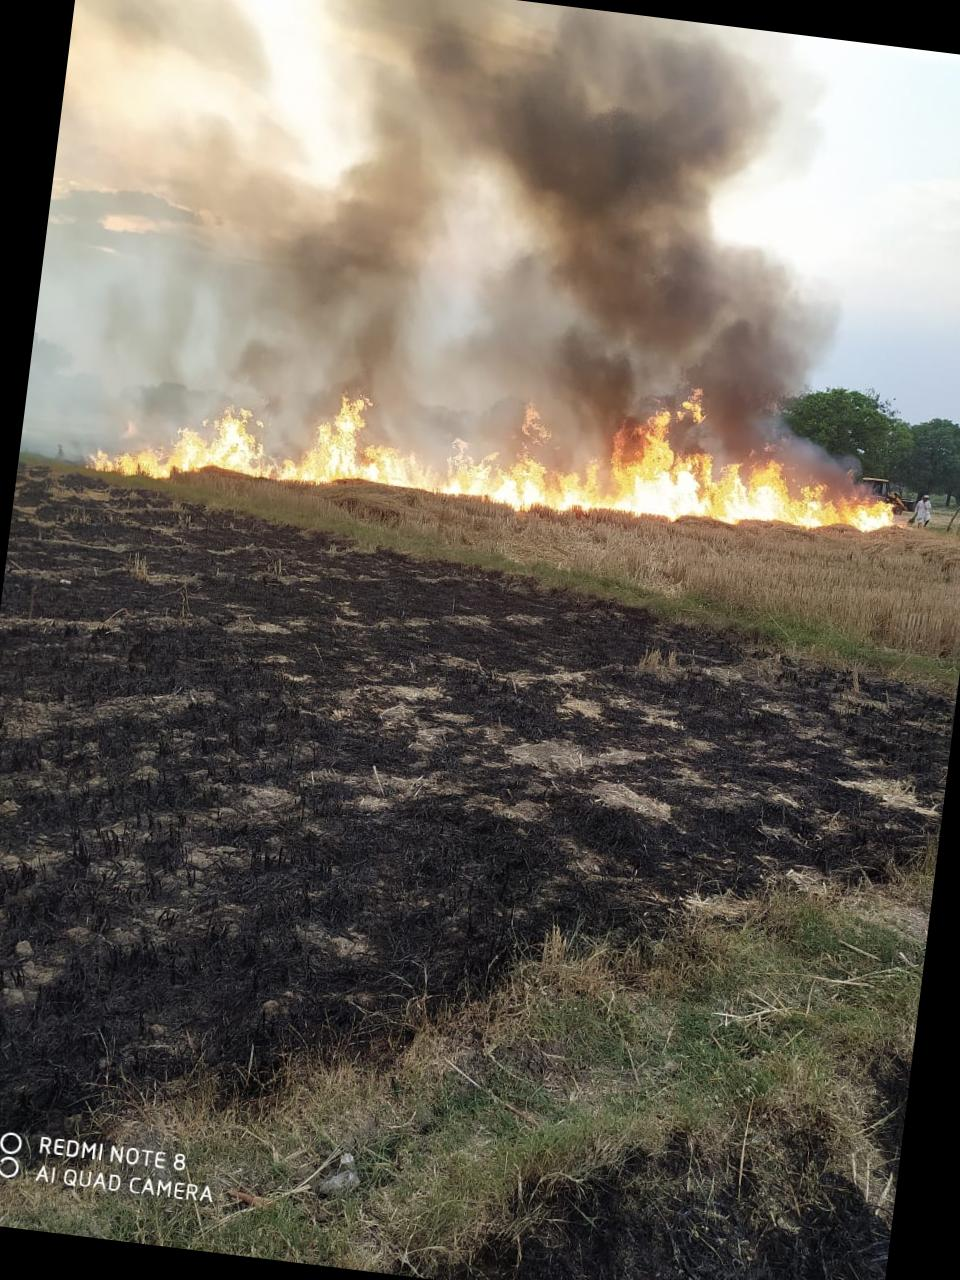Fire: (82, 321, 915, 568)
Smoke: (29, 0, 886, 471)
